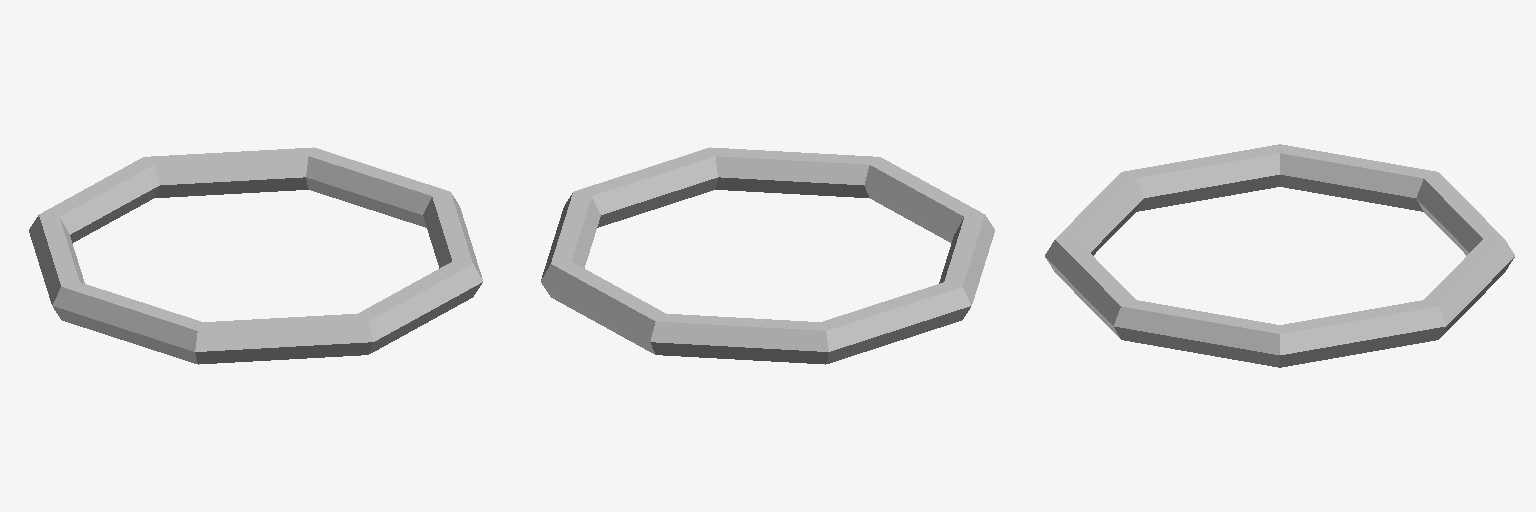
The model's file is Crystal.obj.
3 renders of one model, left to right at view 1: azimuth 30°, elevation 25°; view 2: azimuth 150°, elevation 25°; view 3: azimuth 270°, elevation 25°, orthographic.
Parts seen in each view (by area): view 1: pTorus1 pSphere1; view 2: pTorus1 pSphere1; view 3: pTorus1 pSphere1.
Part boxes in pixels (x1,y1,x2,y2): pTorus1 pSphere1: (29,147,482,364); pTorus1 pSphere1: (541,147,994,364); pTorus1 pSphere1: (1045,144,1514,367).
Size of the model in its own units: 4.4 by 0.3464 by 4.4.